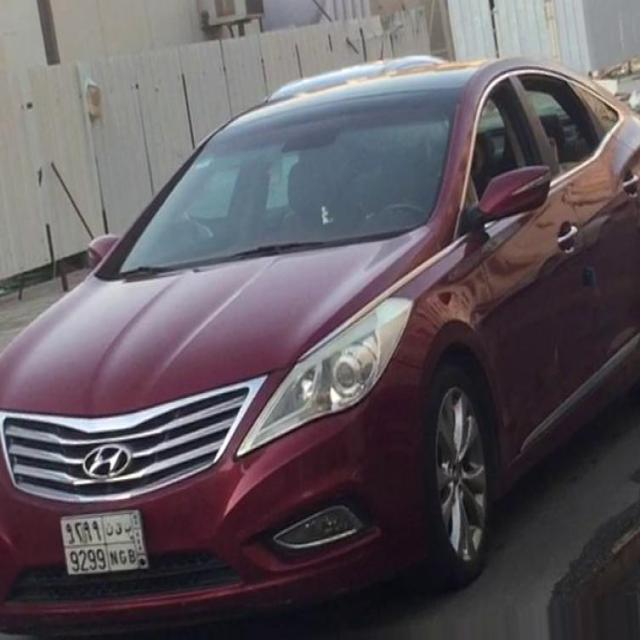Car-plate: (52, 493, 163, 590)
